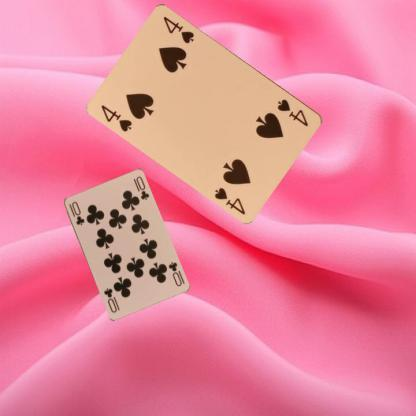10c: (66, 198, 86, 226), (165, 258, 183, 288)
4s: (275, 96, 310, 128), (99, 102, 134, 134)
